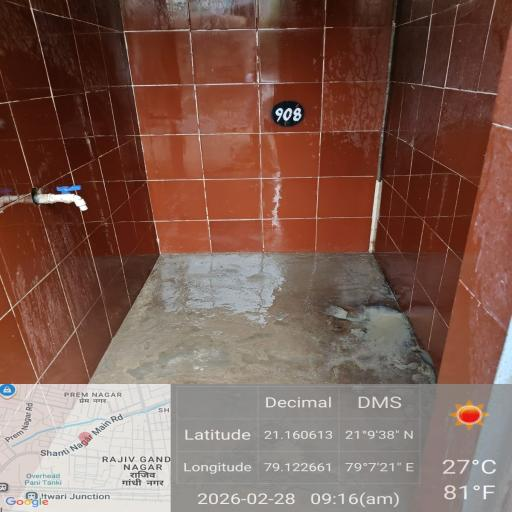dirty_floor: (131, 263, 453, 512)
partial_dirty_floor: (68, 43, 444, 191)
